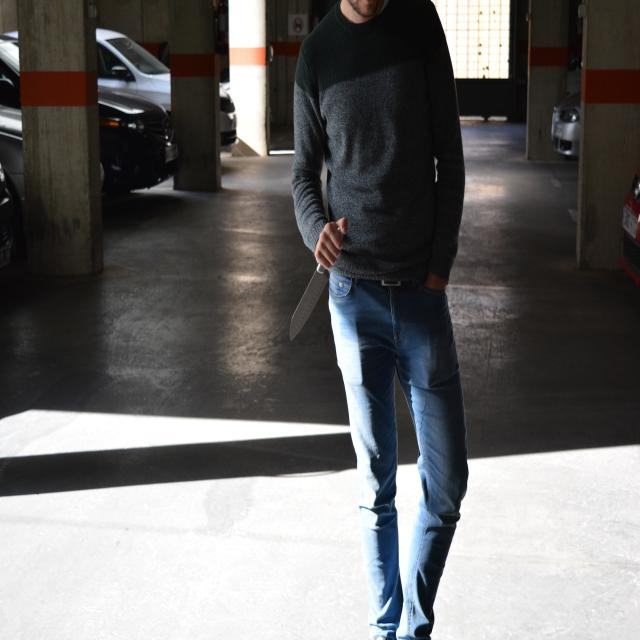knife: (278, 249, 336, 353)
